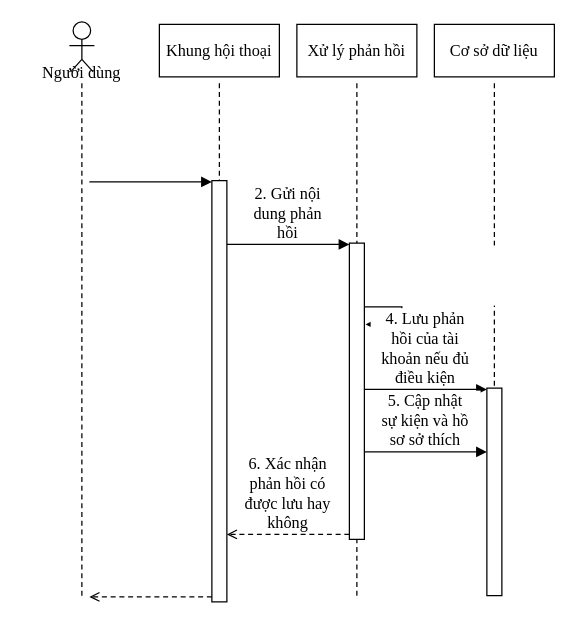
The diagram is 576 pixels wide and 629 high, and some of its shapes have lost their labels. Each missing label, with the centre of its shape:
1. Đánh dấu gợi ý hữu ích hoặc chưa phù hợp: point 150,140
3. Kiểm tra phản hồi và trạng thái đăng nhập: point 451,275
7. Hiển thị thông báo ghi nhận: point 150,565
